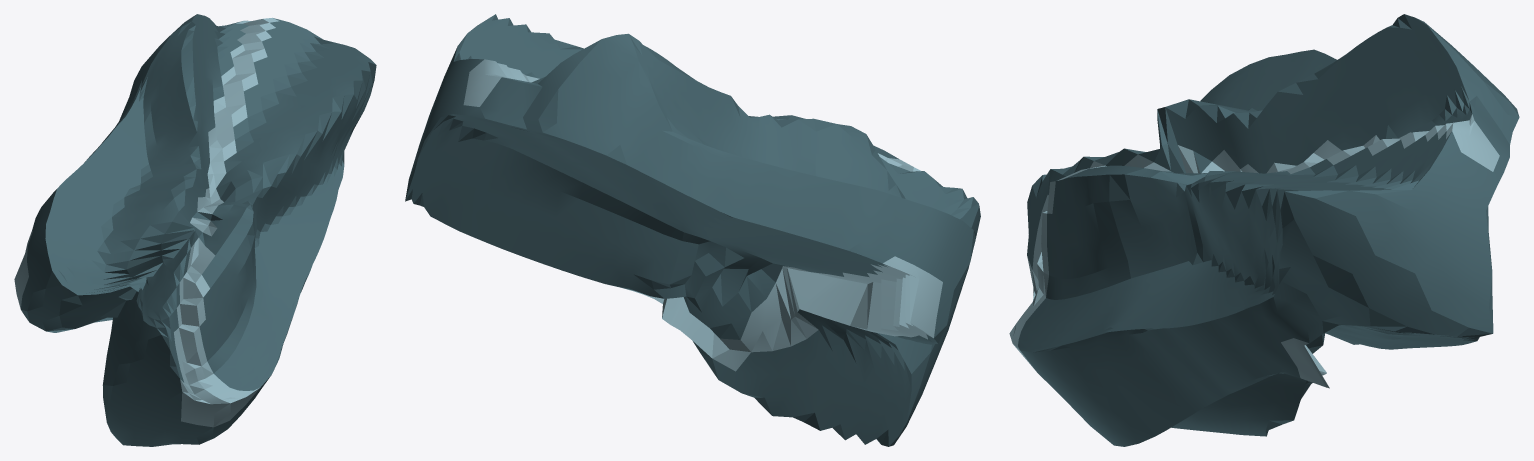
The model's file is medium-oxide-asteroid.glb.
The picture shows the model from 3 angles, left to right: view 1: azimuth 30°, elevation 25°; view 2: azimuth 150°, elevation 25°; view 3: azimuth 270°, elevation 25°; orthographic projection. The views are drawn at different scales.
Parts seen in each view (by area): view 1: body; view 2: body; view 3: body.
Part boxes in pixels (bbox=[...]): body: bbox=[14, 14, 376, 446]; body: bbox=[405, 14, 980, 446]; body: bbox=[1009, 14, 1519, 446].
Bounding box in the file's own units: 3.17 × 2.86 × 2.62.
